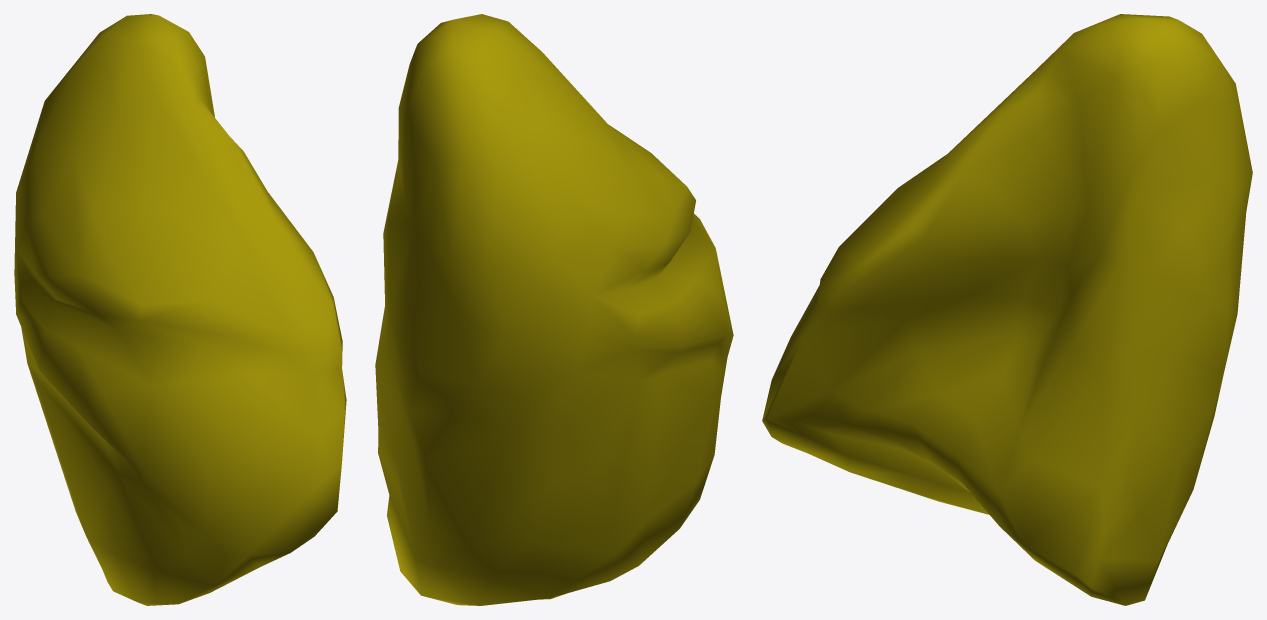
The model's file is organs_lung_right_collision.obj.
3 views of the same model, side by side, from view 1: azimuth 30°, elevation 25°; view 2: azimuth 150°, elevation 25°; view 3: azimuth 270°, elevation 25° (orthographic). The views are drawn at different scales.
Visible parts, largest first — view 1: Lung_right_polySurface1.002; view 2: Lung_right_polySurface1.002; view 3: Lung_right_polySurface1.002.
Part boxes in pixels (x1,y1,x2,y2): Lung_right_polySurface1.002: (14, 14, 346, 605); Lung_right_polySurface1.002: (375, 14, 733, 605); Lung_right_polySurface1.002: (762, 14, 1252, 605).
Bounding box in the file's own units: 12.71 × 25.58 × 19.84.
